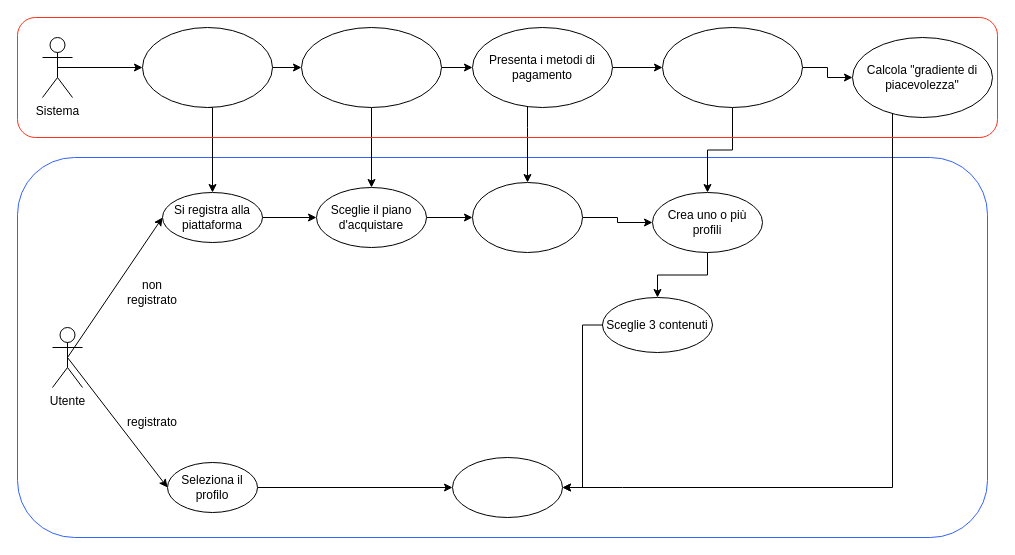
Image size: 1015x555. Some labels were removed from this diagram. Each missing label, with the centre of its shape:
"Chiede dati email e password per registrarsi" belongs at point (207, 67).
"Chiede quanti utenti usufruiranno dei contenuti" belongs at point (732, 67).
"Richiede scelta del piano di abbonamento" belongs at point (371, 67).
"Sceglie il contenuto da guardare" belongs at point (507, 487).
"Seleziona il metodo di pagamento" belongs at point (527, 217).
